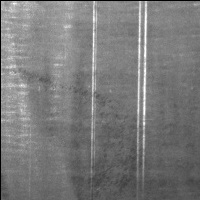scratches: (131, 1, 150, 195), (85, 1, 100, 179)
